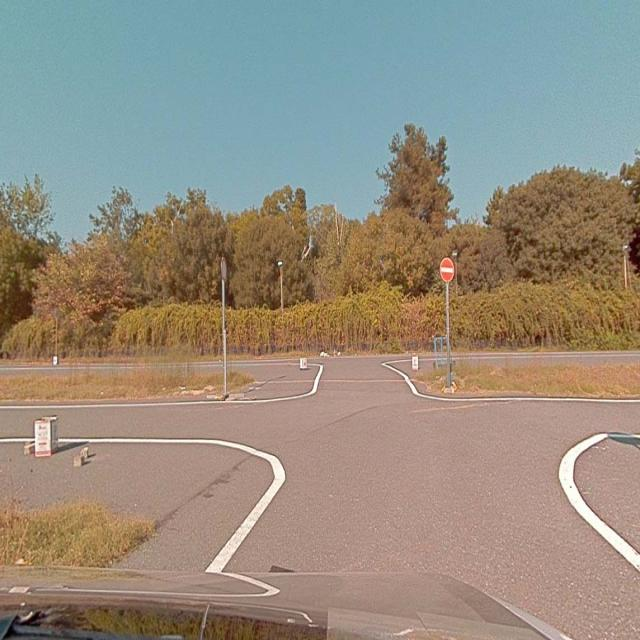girisyok: (440, 256, 453, 282)
